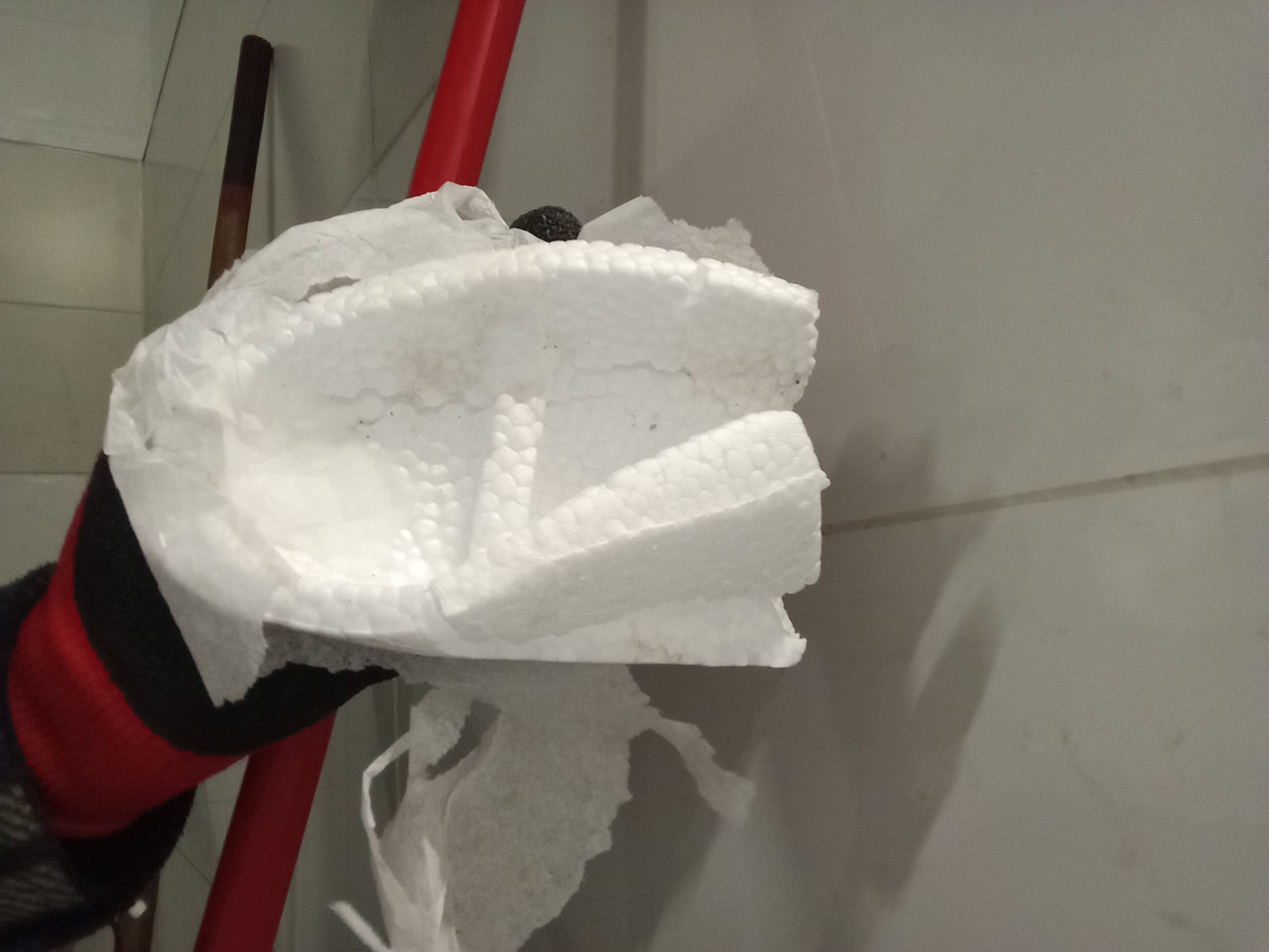Ordinario: (104, 181, 830, 952)
